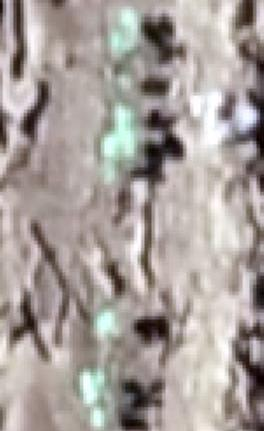cotton: (77, 371, 109, 404), (114, 13, 138, 49), (104, 136, 134, 158), (113, 110, 134, 128), (97, 313, 117, 330)
